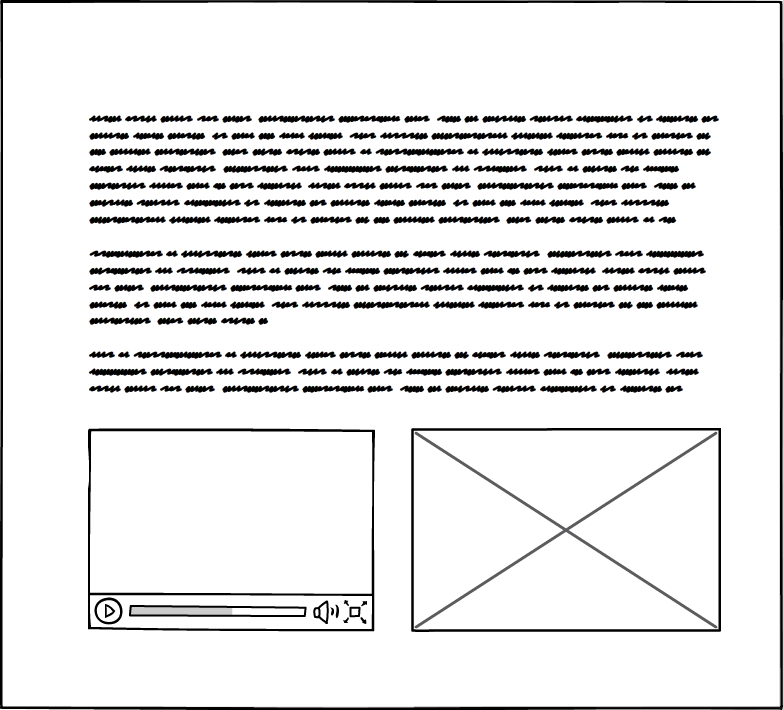image: (407, 423, 730, 638)
p: (78, 109, 736, 401)
video: (79, 426, 380, 637)
